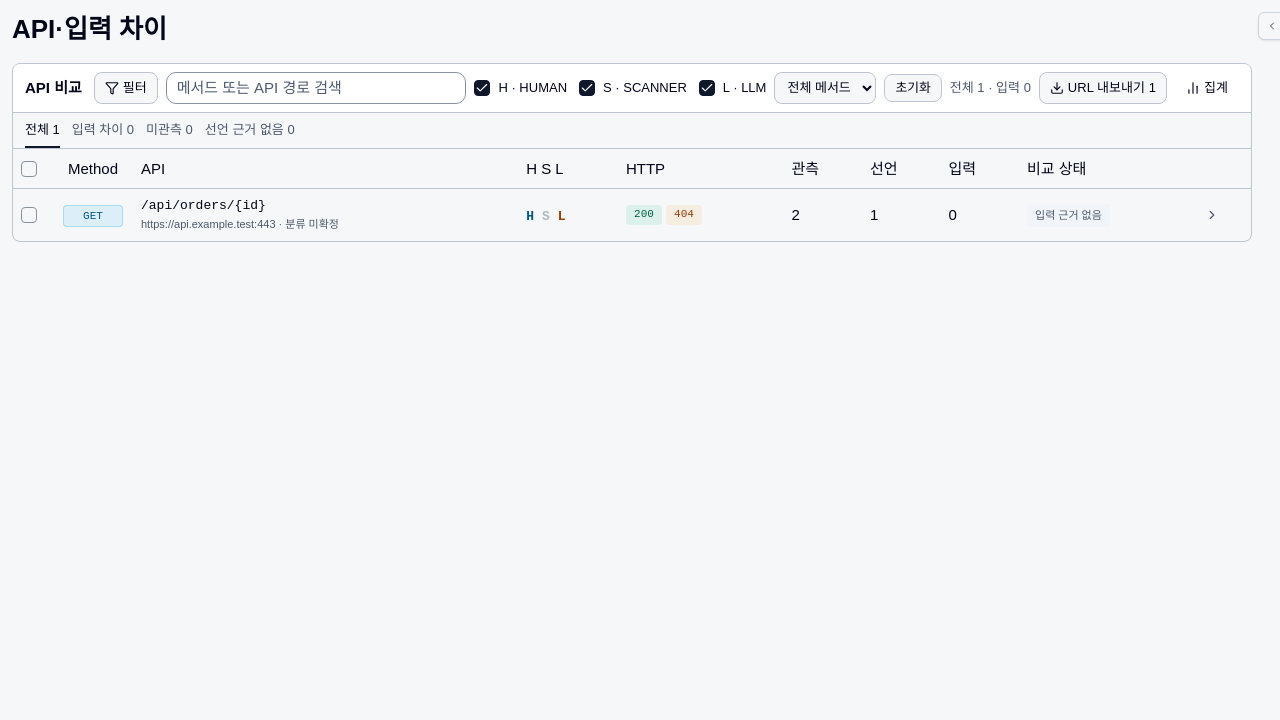
it: recomputes source deltas without mixing run summaries into the API sheet
Expected: the element titled "2개 출처 관측" is shown, x1=526 y1=206 x2=566 y2=223
Click the button "필터": {"x": 126, "y": 88} x1=94 y1=72 x2=158 y2=104
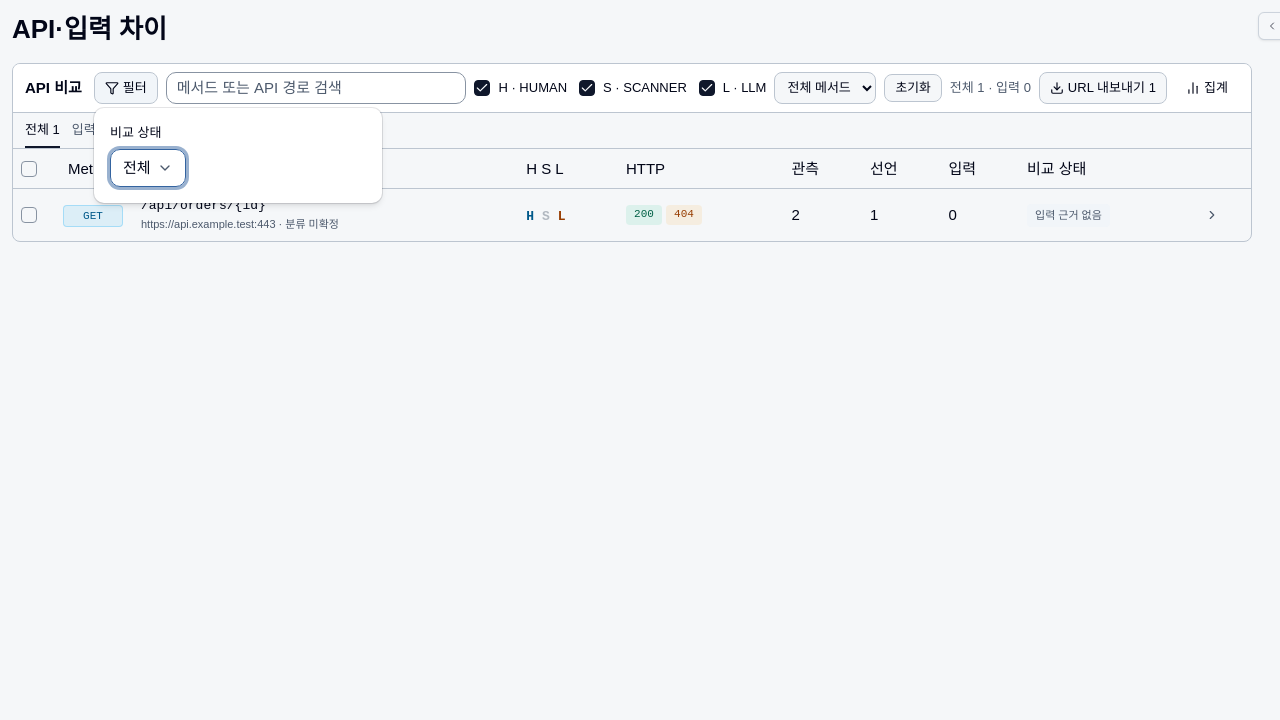
Click the checkbox named "L · LLM" next to "L · LLM": {"x": 707, "y": 88} x1=699 y1=80 x2=715 y2=96
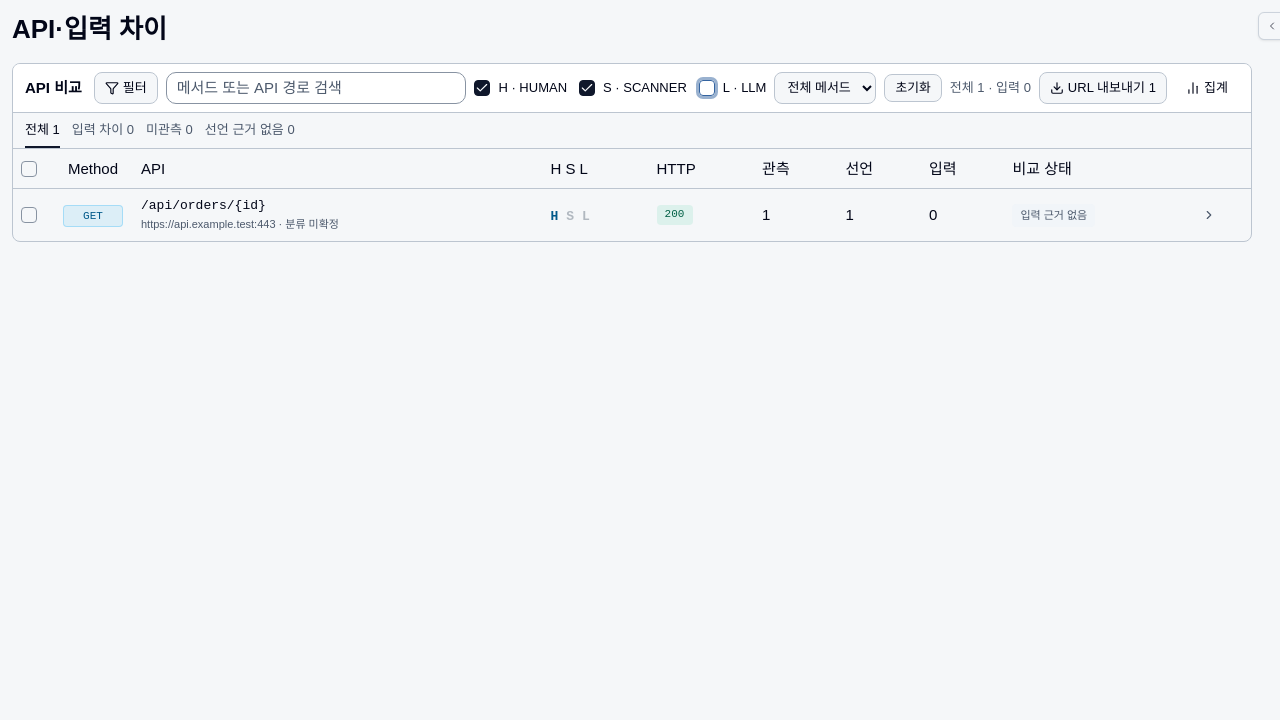
Expected: the element titled "1개 출처 관측" is shown, x1=550 y1=206 x2=590 y2=223
Expected: the text "404" is gone
